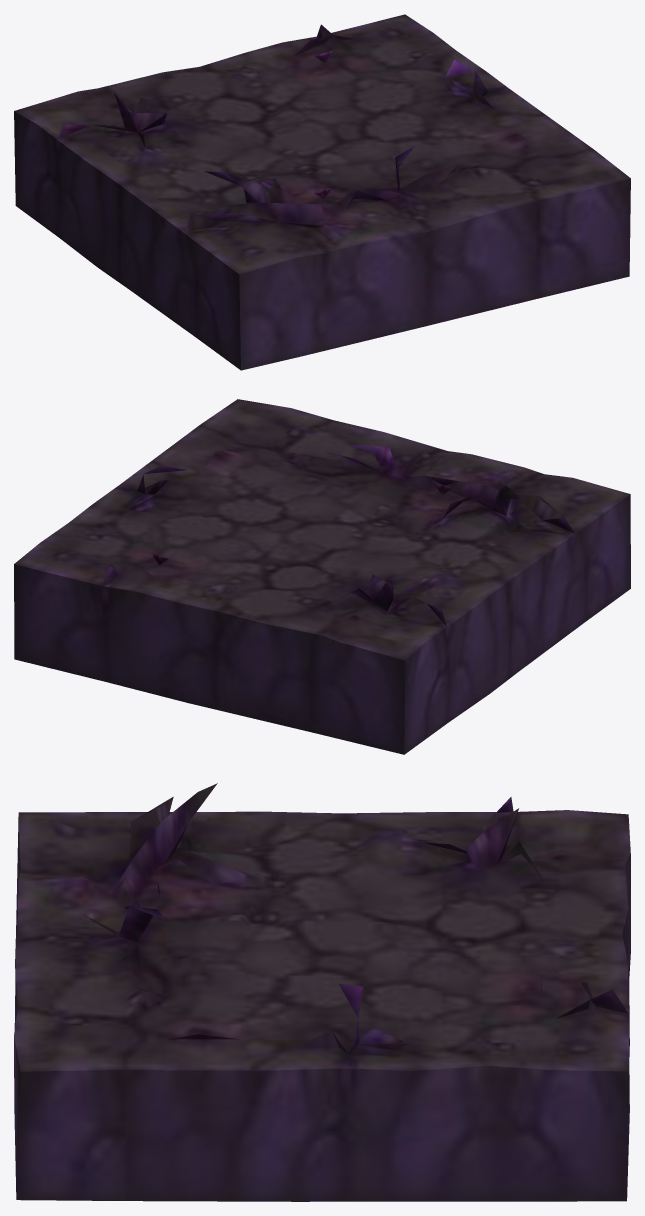
Rendered from b_abimes_sol_2.glb.
3 views of the same model, one above another, from view 1: azimuth 30°, elevation 25°; view 2: azimuth 150°, elevation 25°; view 3: azimuth 270°, elevation 25° (orthographic). The views are drawn at different scales.
Parts seen in each view (by area): view 1: geometry_0; view 2: geometry_0; view 3: geometry_0.
Boxes of the visible parts, box(x1,y1,x2,y2) form: geometry_0: box(14, 14, 630, 370); geometry_0: box(14, 399, 630, 754); geometry_0: box(14, 783, 630, 1201).
Bounding box in the file's own units: 1 × 0.3332 × 1.
Materials: 1 (1 with a texture image).
